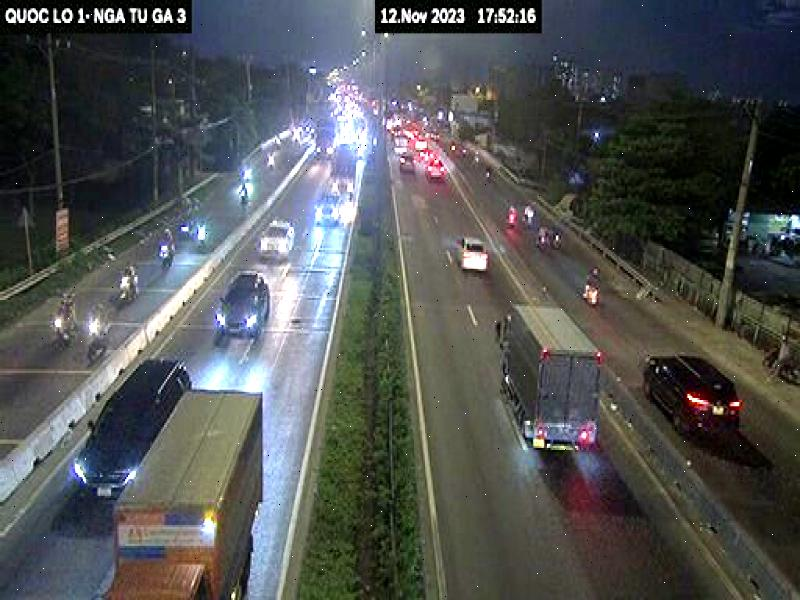truck: (103, 388, 270, 600), (494, 298, 604, 459)
